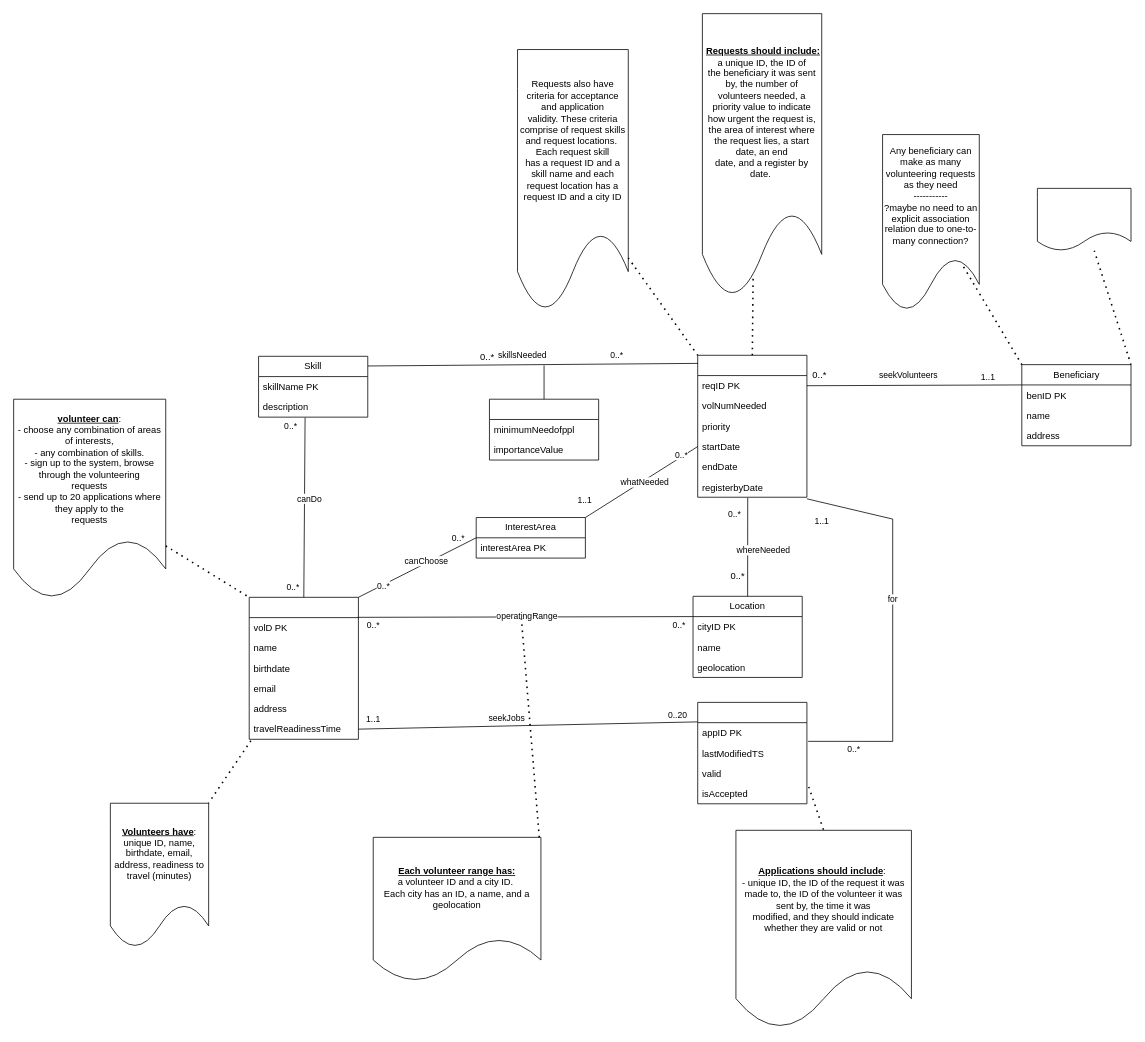
The diagram is 1145 pixels wide and 1042 high, and some of its shapes have lost their labels. Each missing label, with the box of its shape:
Application: (697, 702, 807, 804)
Beneficiaries have: unique IDs, names, and addresses: (1037, 188, 1131, 251)
Request: (697, 355, 807, 497)
SkillAppraisal: (489, 398, 599, 460)
Volunteer: (248, 597, 358, 739)
